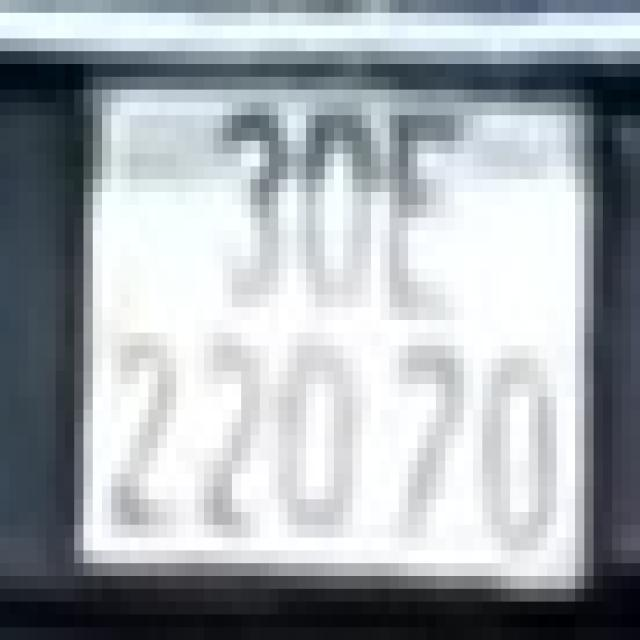0: (296, 102, 381, 308), (482, 346, 556, 550)
2: (111, 333, 186, 525), (194, 333, 260, 525)
3: (214, 102, 288, 308)
6: (214, 102, 288, 308)
7: (381, 346, 464, 538)
E: (380, 102, 482, 333)
